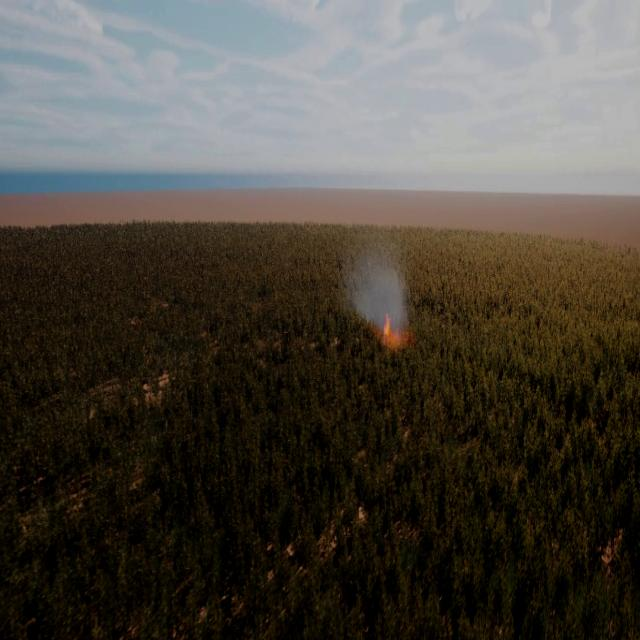fire: (379, 316, 411, 346)
smoke: (346, 254, 412, 338)
